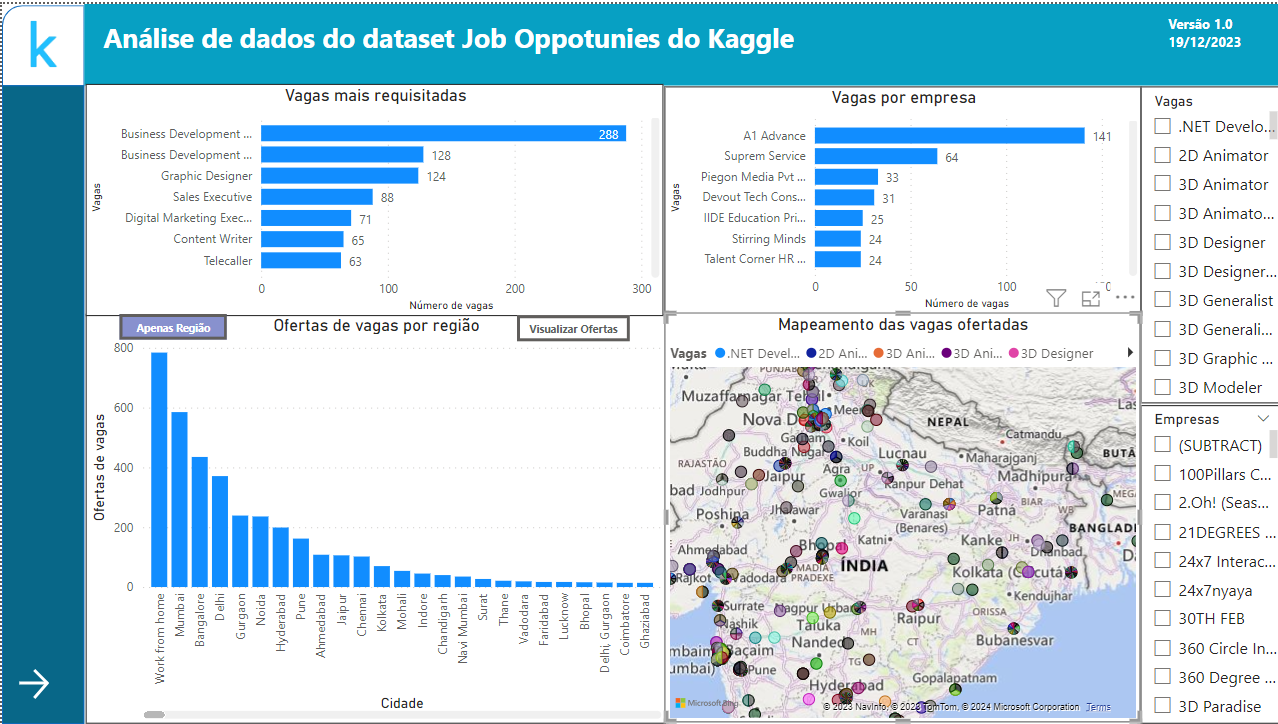

The page's visual inventory and layout, read from the dashboard file:
{"tool":"powerbi","page":{"name":"Ofertas de Vagas","canvas":[1280,720],"ordinal":0},"visuals":[{"type":"shape","box":[0,1.2,82.5,81.2],"z":1000},{"type":"shape","box":[0,80.9,82.3,638.9],"z":2000},{"type":"shape","box":[82.7,0,1197.9,81.3],"z":3000},{"type":"barChart","title":"Vagas mais requisitadas","fields":{"Category":["job_dataset.job_title"],"Y":["CountNonNull(job_dataset.job_title)"]},"box":[84.3,79.4,578,231.9],"z":4000},{"type":"map","title":"Mapeamento das vagas ofertadas","fields":{"Category":["job_dataset.location"],"Series":["job_dataset.job_title"]},"box":[662.6,309,475.6,409.2],"z":5000},{"type":"clusteredBarChart","title":"Vagas por empresa","fields":{"Y":["CountNonNull(job_dataset.job_title)"],"Category":["job_dataset.company_name"]},"box":[662.6,82.7,477,227.7],"z":6000},{"type":"textbox","box":[96.2,10,720,45],"z":7000},{"type":"textbox","box":[1161.3,6.8,93.5,47.4],"z":8000},{"type":"image","box":[11.2,0,61.2,80],"z":9000},{"type":"actionButton","box":[11.2,660,52.5,40],"z":10000},{"type":"slicer","fields":{"Values":["job_dataset.job_title"]},"box":[1138.3,82.7,142.3,317.1],"z":11000},{"type":"slicer","fields":{"Values":["job_dataset.company_name"]},"box":[1138.3,401.1,142.3,318.4],"z":12000},{"type":"columnChart","title":"Ofertas de vagas por região/ofertas","fields":{"Category":["job_dataset.location"],"Y":["CountNonNull(job_dataset.job_title)"],"Series":["job_dataset.job_title"]},"box":[82.7,310.3,580,409.2],"z":14000},{"type":"actionButton","title":"Visualizar Ofertas","box":[514.7,311.3,112.9,26],"z":16000},{"type":"actionButton","title":"*Apenas Região","box":[119.1,310.1,110.4,26],"z":18000}]}

Visuals, with their boxes in screenshot pixels (x1, y1, x2, y2), scaled from the page's 1280x720 canvas onto the 1278x724 screenshot:
shape: (0, 1, 82, 83)
shape: (0, 81, 82, 723)
shape: (83, 0, 1277, 82)
"Vagas mais requisitadas" barChart: (84, 80, 661, 313)
"Mapeamento das vagas ofertadas" map: (662, 311, 1136, 722)
"Vagas por empresa" clusteredBarChart: (662, 83, 1138, 312)
textbox: (96, 10, 815, 55)
textbox: (1159, 7, 1253, 55)
image: (11, 0, 72, 80)
actionButton: (11, 664, 64, 704)
slicer - job_dataset.job_title: (1137, 83, 1277, 402)
slicer - job_dataset.company_name: (1137, 403, 1277, 723)
"Ofertas de vagas por região/ofertas" columnChart: (83, 312, 662, 723)
"Visualizar Ofertas" actionButton: (514, 313, 627, 339)
"*Apenas Região" actionButton: (119, 312, 229, 338)
